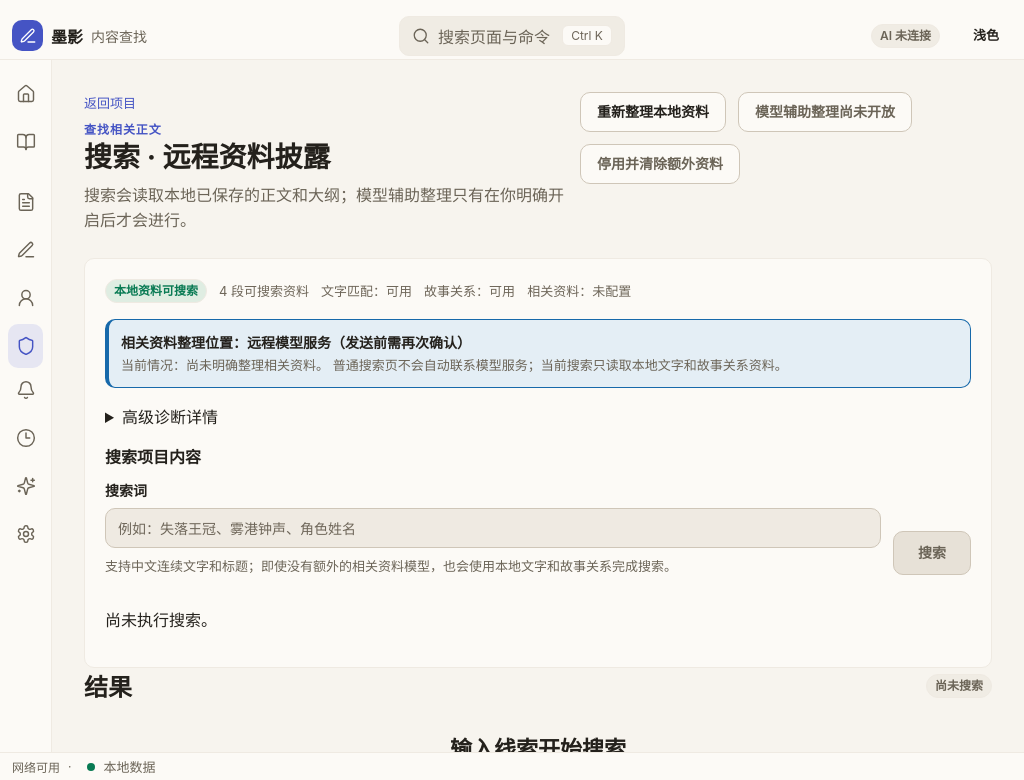
Test: ProjectSearchPage › keeps remote related-material preparation closed and hides technical details by default
This screenshot has width=1024, height=780.
Expected: the text "当前情况：尚未明确整理相关资料。 普通搜索页不会自动联系模型服务；当前搜索只读取本地文字和故事关系资料。" is shown, [121, 357, 788, 373]
Expected: the text "embed-primary" is not shown
Click the heading "高级诊断详情" at (170, 417), box [122, 407, 218, 427]
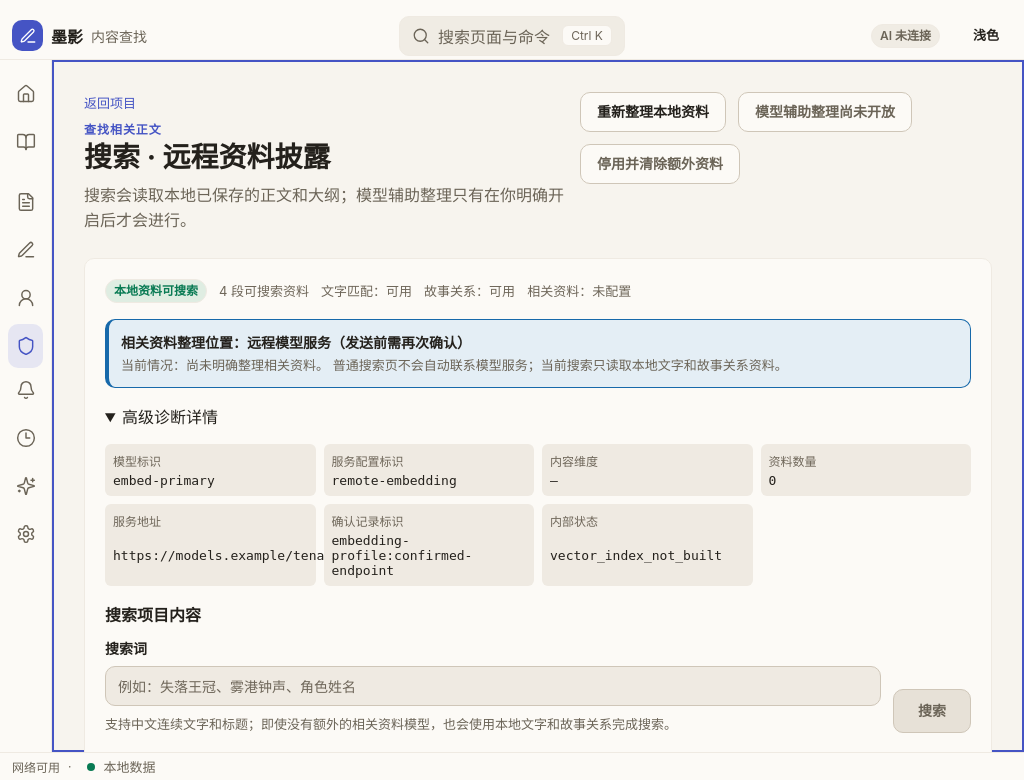
Expected: the text "embed-primary" is shown, [113, 473, 215, 488]
Expected: the text "remote-embedding" is shown, [332, 473, 457, 488]
Expected: the text "https://models.example/tenant/v1/embeddings" is shown, [113, 548, 450, 563]
